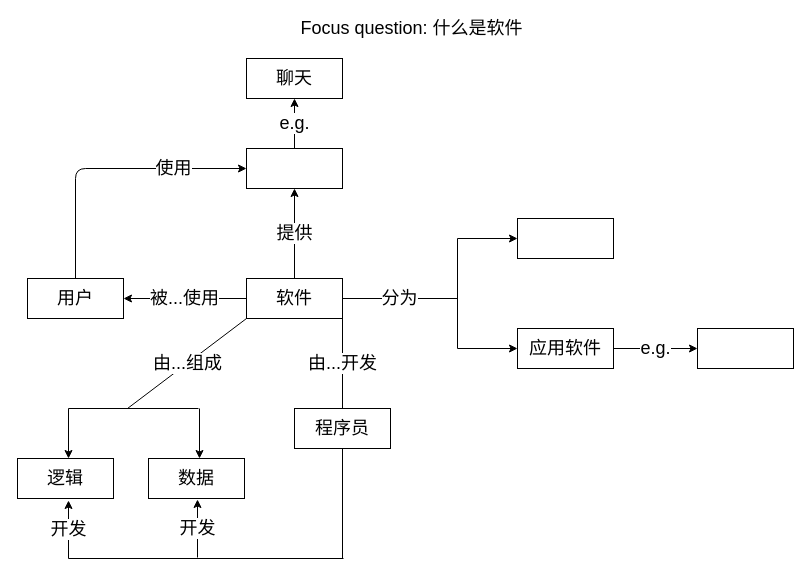
Some shapes in this 811 by 584 pixel diagram are drawn without their labels. The shapes that lost their labels are listed below. From the top down, each one's centre as x and y in pixels, then its label:
At (294,168): "功能".
At (565,238): "系统软件".
At (745,348): "微信".
